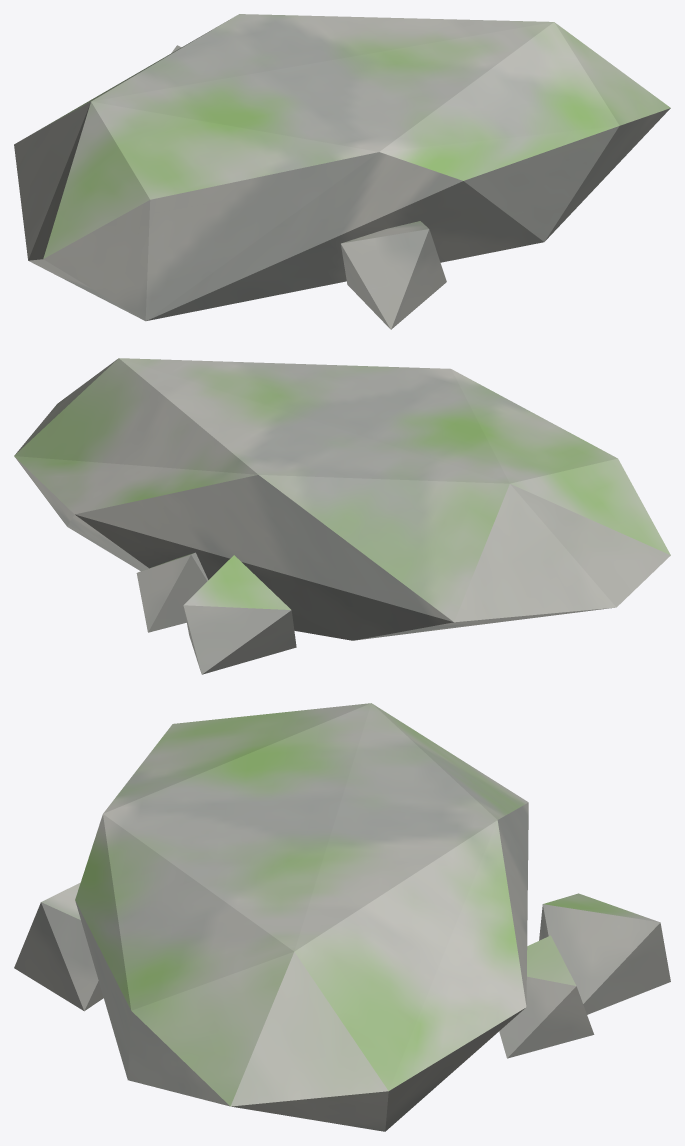
The model's file is rock_c_lod1.gltf.
The picture shows the model from 3 angles, top to bottom: view 1: azimuth 30°, elevation 25°; view 2: azimuth 150°, elevation 25°; view 3: azimuth 270°, elevation 25°; orthographic projection. The views are drawn at different scales.
Parts seen in each view (by area): view 1: rock_c_LOD1; view 2: rock_c_LOD1; view 3: rock_c_LOD1.
Part boxes in pixels (x1,y1,x2,y2): rock_c_LOD1: (14, 14, 670, 329); rock_c_LOD1: (14, 358, 670, 674); rock_c_LOD1: (14, 703, 670, 1131).
Bounding box in the file's own units: 1.35 × 0.3165 × 1.04.
Materials: 1 (1 with a texture image).
